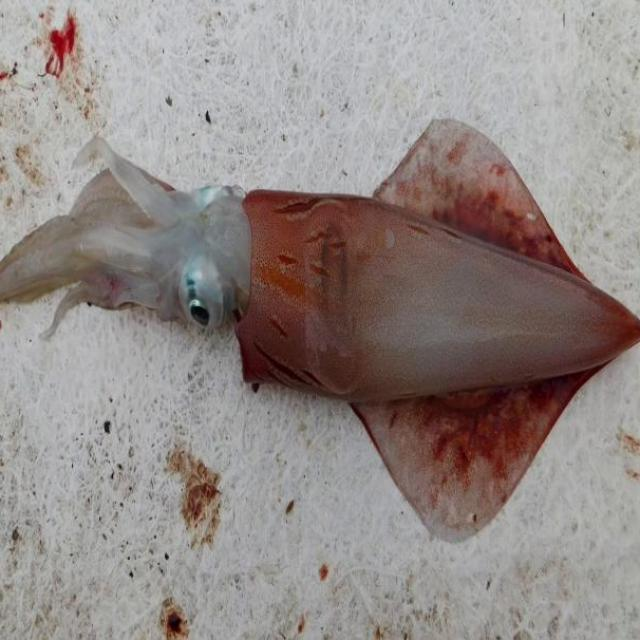SQUID: (0, 101, 640, 559)
